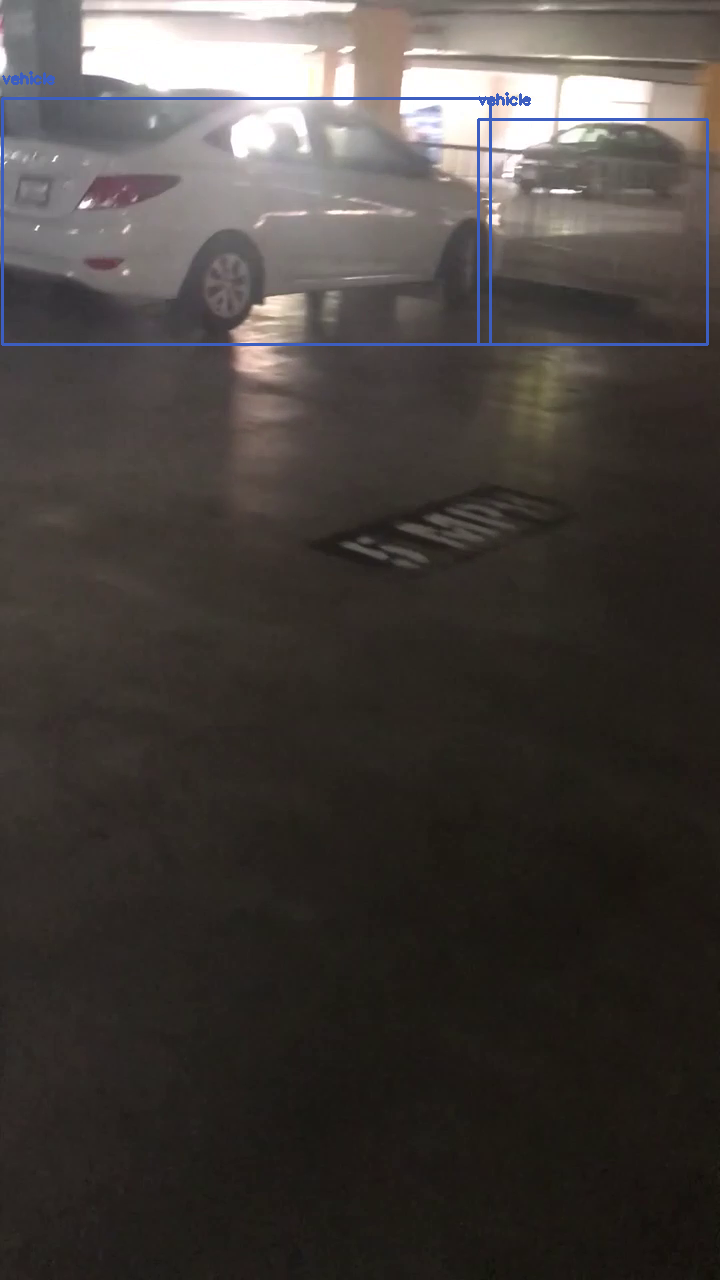vehicle: (2, 98, 490, 344), (478, 119, 707, 344)
